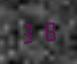eight: (38, 20, 56, 42)
three: (19, 21, 37, 44)
